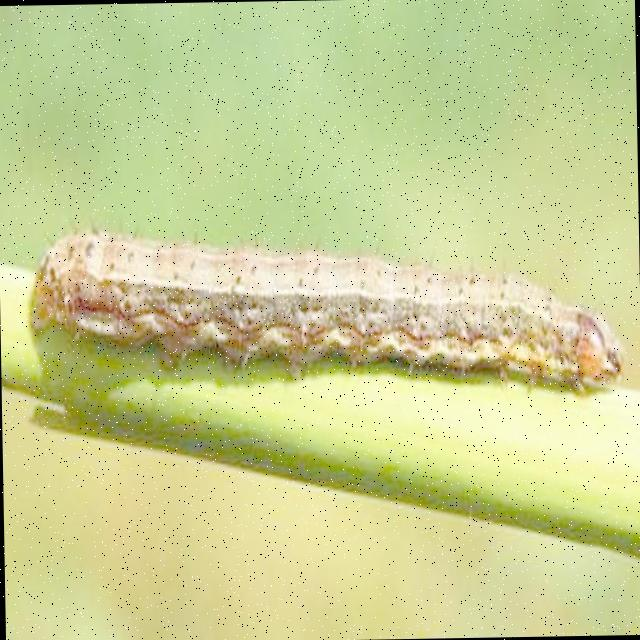worm: (27, 217, 626, 408)
